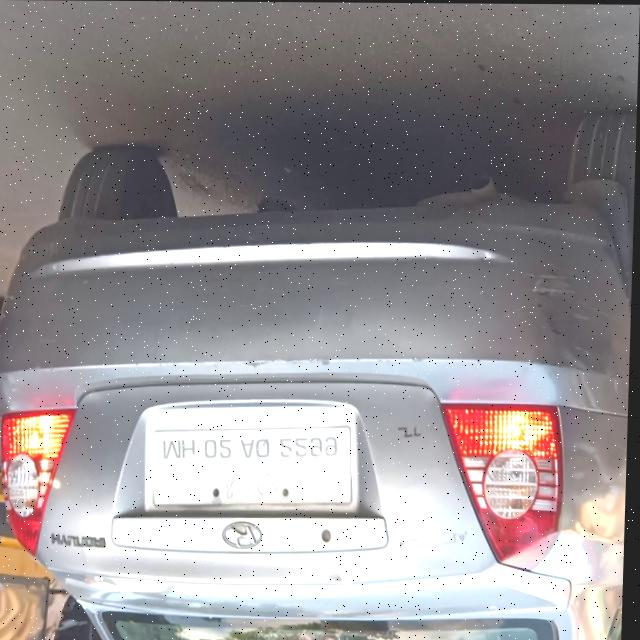plate: (148, 422, 358, 513)
